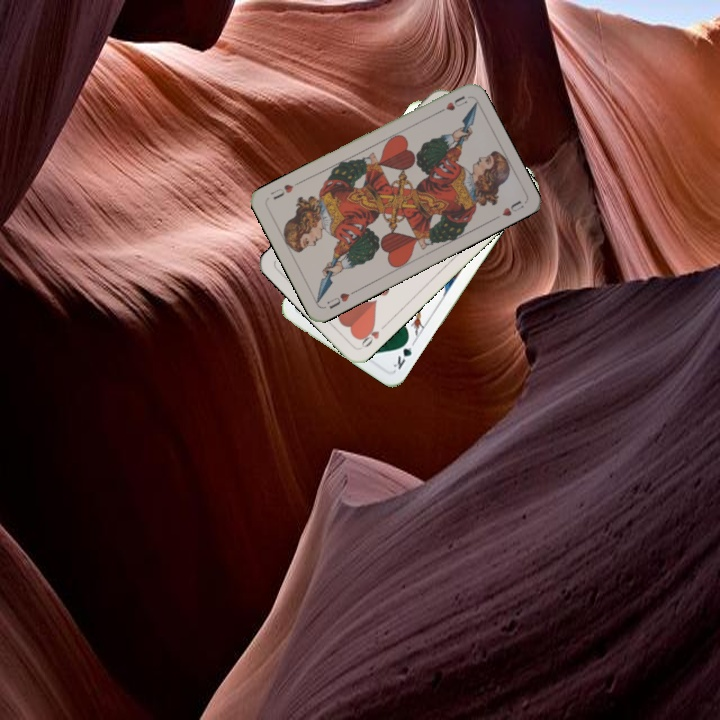GK: (389, 334, 415, 372)
HO: (355, 319, 389, 351)
HU: (322, 286, 359, 312), (432, 92, 470, 117)
